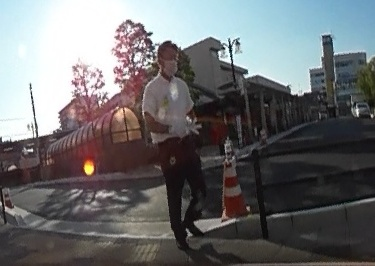person: (145, 37, 208, 244)
